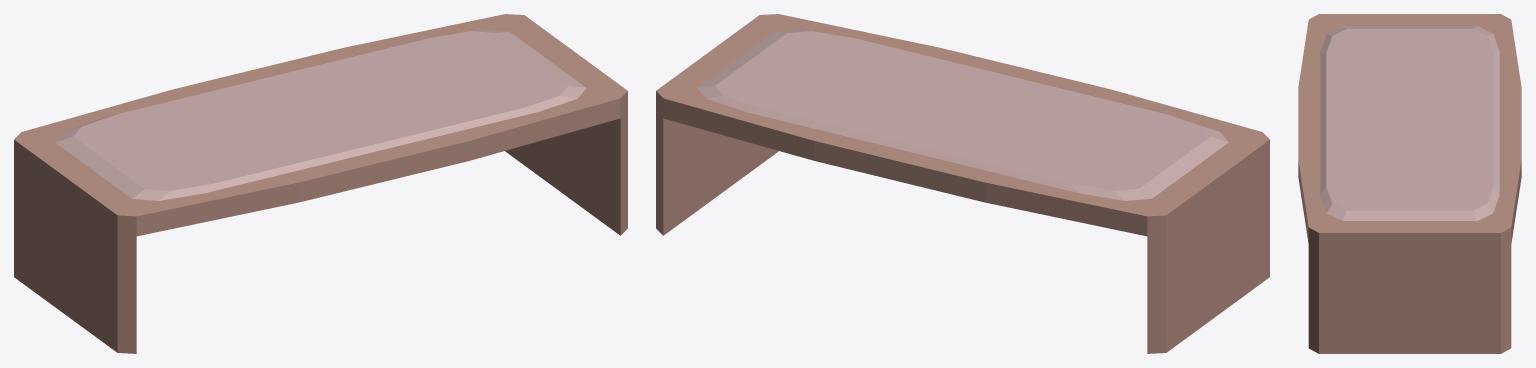
The model's file is Table.glb.
The picture shows the model from 3 angles, left to right: view 1: azimuth 30°, elevation 25°; view 2: azimuth 150°, elevation 25°; view 3: azimuth 270°, elevation 25°; orthographic projection. The views are drawn at different scales.
Visible parts, largest first — view 1: Bench2; view 2: Bench2; view 3: Bench2.
Boxes of the visible parts, left/top/right/bottom form: Bench2: left=14, top=14, right=627, bottom=353; Bench2: left=656, top=14, right=1269, bottom=353; Bench2: left=1298, top=14, right=1521, bottom=353.
Size of the model in its own units: 1.33 by 0.3536 by 0.5737.
1 material, 1 textured.
